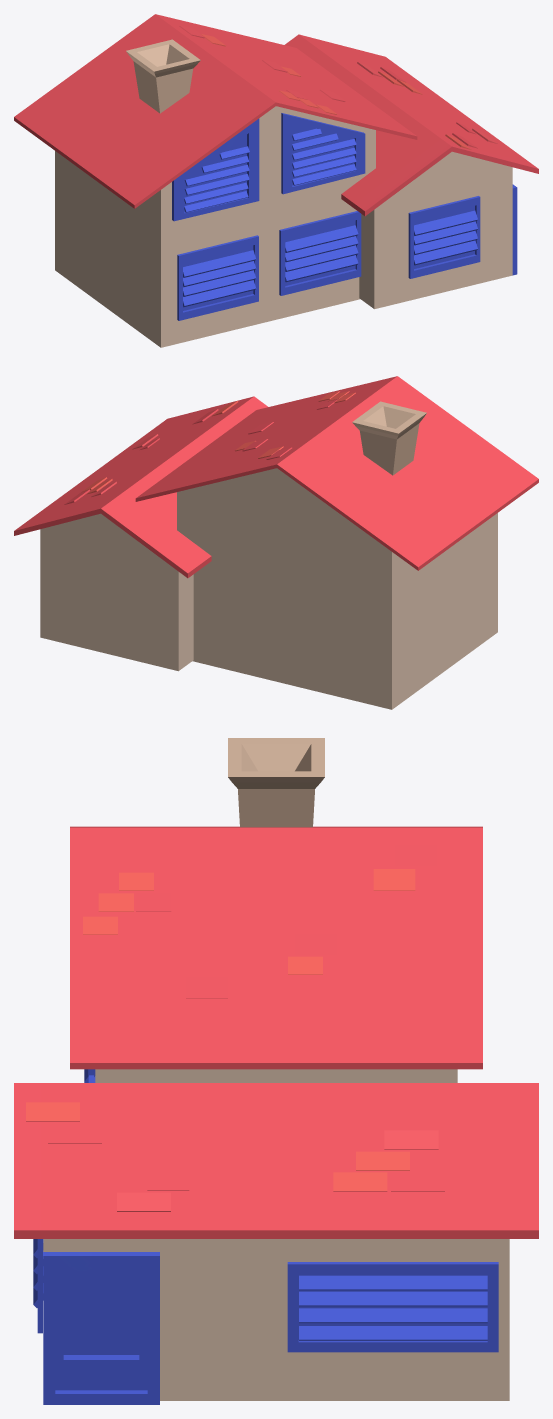
The model's file is house_type_6.obj.
The picture shows the model from 3 angles, top to bottom: view 1: azimuth 30°, elevation 25°; view 2: azimuth 150°, elevation 25°; view 3: azimuth 270°, elevation 25°; orthographic projection. The views are drawn at different scales.
Parts seen in each view (by area): view 1: house_type_6; view 2: house_type_6; view 3: house_type_6.
Boxes of the visible parts, left/top/right/bottom form: house_type_6: left=14, top=14, right=538, bottom=347; house_type_6: left=14, top=376, right=538, bottom=709; house_type_6: left=14, top=738, right=538, bottom=1404.
Size of the model in its own units: 5.62 by 3.32 by 3.84.
